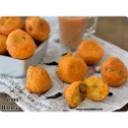bonda: (6, 28, 36, 60), (59, 53, 87, 81), (102, 57, 128, 85), (27, 66, 52, 93), (65, 85, 86, 107)
